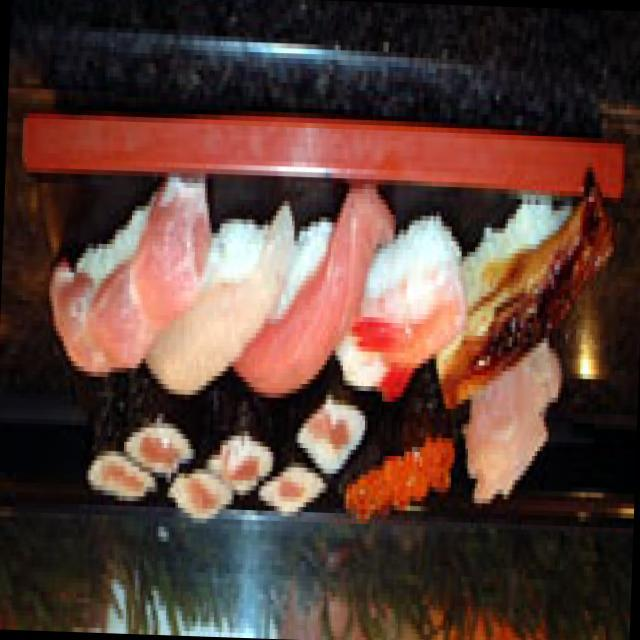Sushi: (34, 178, 613, 542)
